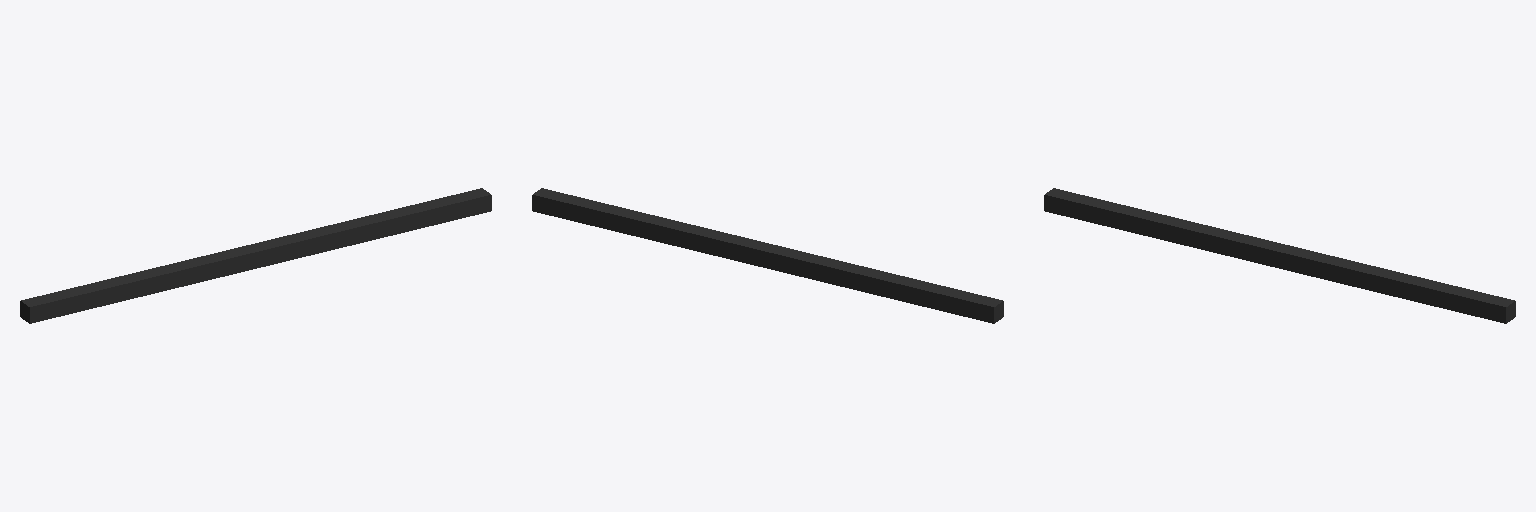
URDF robot description (wall):
<robot name="wall">
  <link name="baseLink">
   
    <inertial>
      <origin rpy="0 0 0" xyz="0 0 0" />
       <mass value="10" />
       <inertia ixx="0" ixy="0" ixz="0" iyy="0" iyz="0" izz="0" />
    </inertial>
    <visual>
      <origin rpy="0 0 0" xyz="0 0 0" />
      <geometry>
			  <box size="2.9 0.1 0.1" />
      </geometry>
       <material name="grey">
        <color rgba="0.24 0.24 0.24 1" />
      </material>
    </visual>
    <collision>
      <origin rpy="0 0 0" xyz="0 0 0" />
      <geometry>
	 	      <box size="2.9 0.1 0.1" />
      </geometry>
    </collision>
  </link>
</robot>

--- Facts derived from the render (not from the file) ---
Views: 3 orthographic renders of the robot side by side, from view 1: azimuth 30°, elevation 25°; view 2: azimuth 150°, elevation 25°; view 3: azimuth 330°, elevation 25°.
Model wall with 1 links and 0 joints (none), rooted at baseLink, posed all joints at 0.
Visible links, largest first — view 1: baseLink; view 2: baseLink; view 3: baseLink.
Boxes of the visible links, x1=… form: baseLink: x1=20, y1=188, x2=491, y2=323; baseLink: x1=532, y1=188, x2=1003, y2=323; baseLink: x1=1044, y1=188, x2=1515, y2=323.
Bounding box of the posed robot: 2.9 × 0.1 × 0.1 m (x, y, z).
Geometry: primitives only (box / cylinder / sphere), no mesh files.
